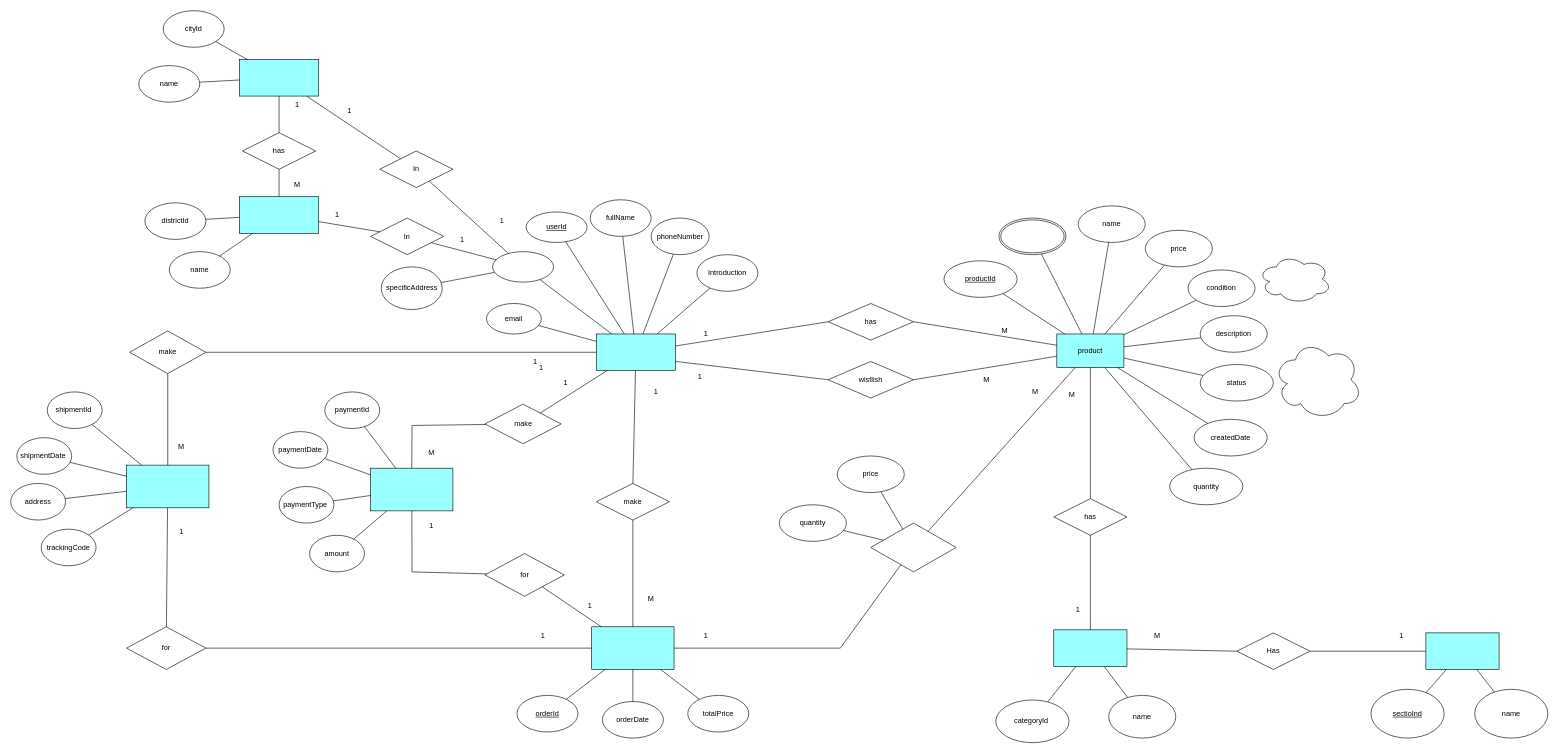
This 1559x753 diagram has some shape labels left out. Each missing label, with the centre of its shape:
"( address )" goes at point 523,266.
"Category" goes at point 1090,647.
"City" goes at point 279,77.
"Contain" goes at point 913,547.
"Customer" goes at point 636,352.
"cũ, mới" goes at point 1294,278.
"District" goes at point 279,214.
"image" goes at point 1032,236.
"Order" goes at point 632,647.
"Payment" goes at point 411,489.
"Section" goes at point 1462,650.
"Shipment" goes at point 167,486.
"đang chờ duyệt, đã duyệt, đã bị chặn" goes at point 1317,379.
